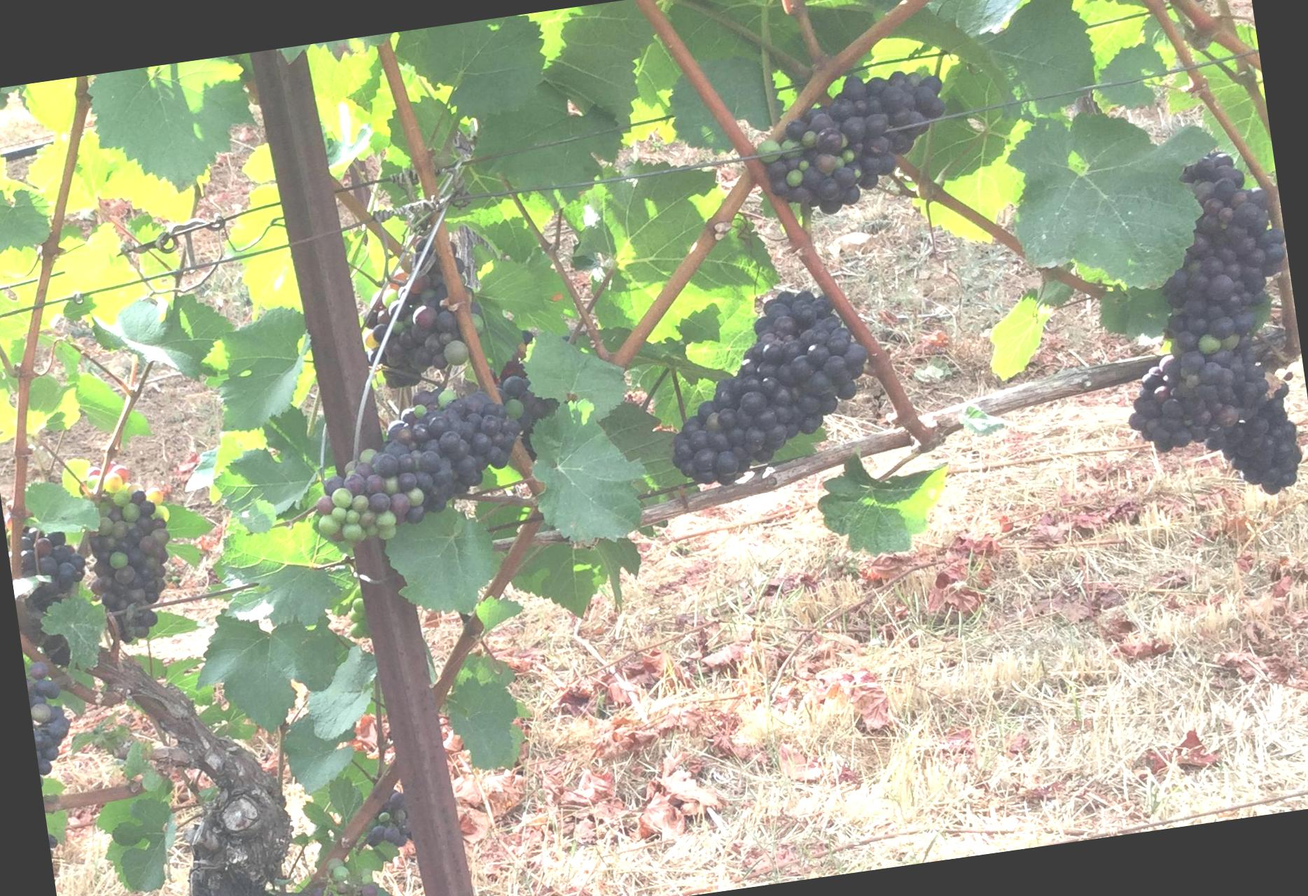Grape Ripe: (635, 258, 910, 508), (1119, 142, 1308, 505), (1089, 336, 1308, 517), (715, 65, 962, 225), (354, 225, 487, 374), (28, 686, 87, 816), (1305, 454, 1308, 497)
